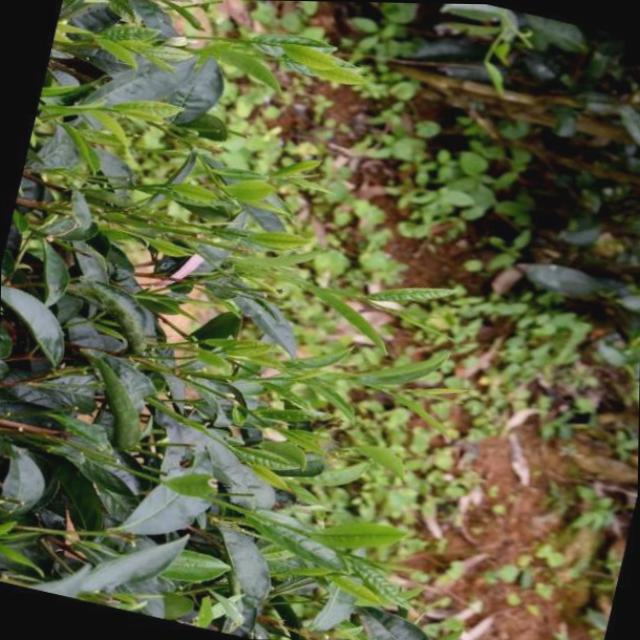Stem: (343, 291, 358, 298), (339, 372, 351, 378), (226, 443, 234, 451), (95, 106, 107, 109), (259, 173, 266, 178), (249, 377, 258, 380)
